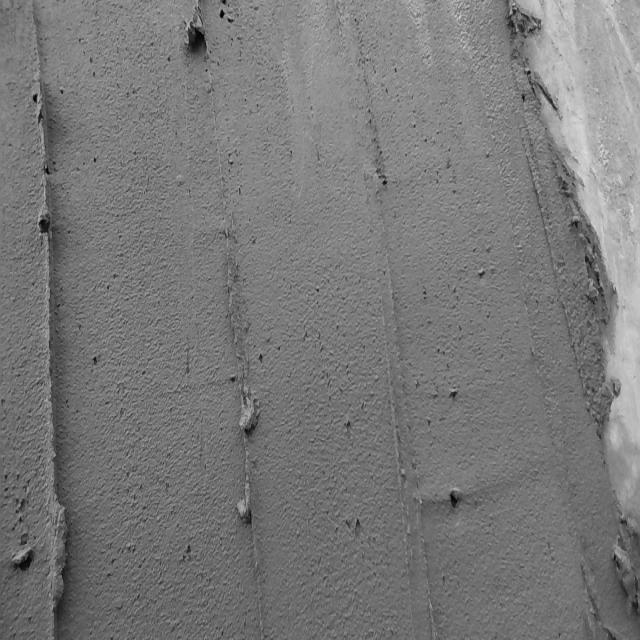trowels marks: (211, 106, 276, 640), (31, 26, 71, 640), (14, 542, 37, 579)
